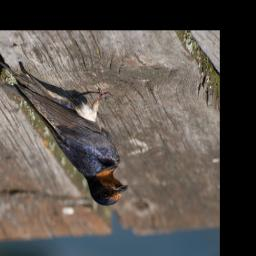Swallow: (0, 53, 129, 207)
